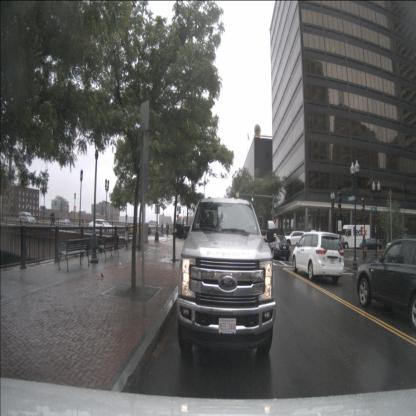human-pedestrian-adult: (362, 234, 367, 259), (160, 222, 164, 237), (167, 223, 170, 235), (166, 222, 168, 236)
vehicle-car: (357, 237, 415, 334), (292, 232, 344, 282), (261, 235, 291, 261), (88, 219, 115, 235), (284, 231, 310, 246), (360, 238, 382, 251), (19, 212, 36, 225), (56, 218, 71, 226)
vehicle-truck: (176, 198, 275, 354), (339, 225, 370, 250)
